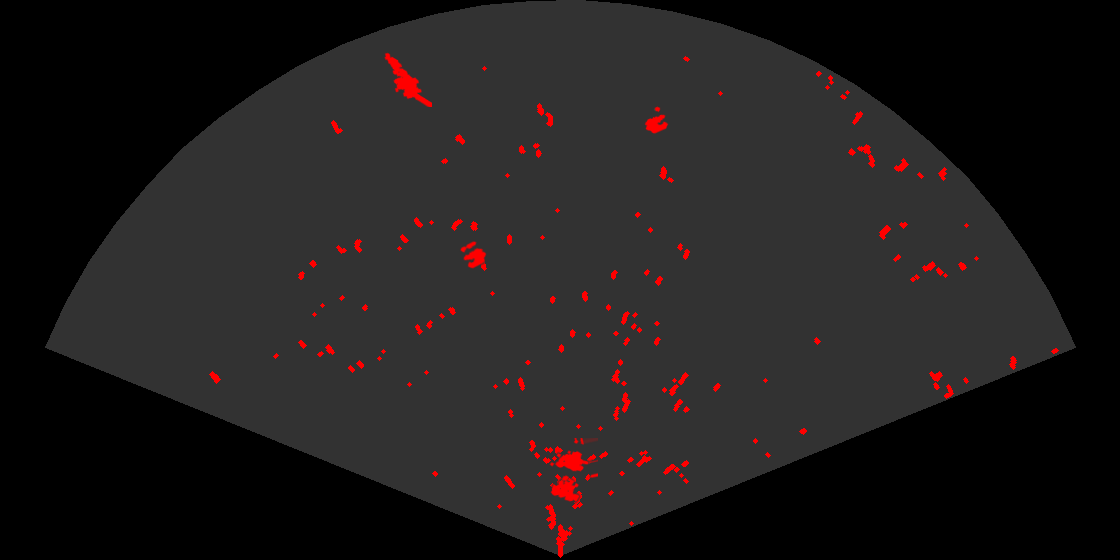ball: (459, 240, 488, 270), (643, 105, 670, 135)
cage: (548, 438, 598, 504)
frogman: (383, 51, 432, 107)
